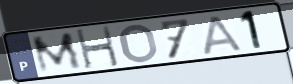1: (237, 9, 265, 52)
7: (158, 17, 191, 60)
A: (202, 14, 245, 56)
H: (74, 25, 122, 71)
M: (30, 30, 85, 75)
O: (119, 23, 161, 64)
